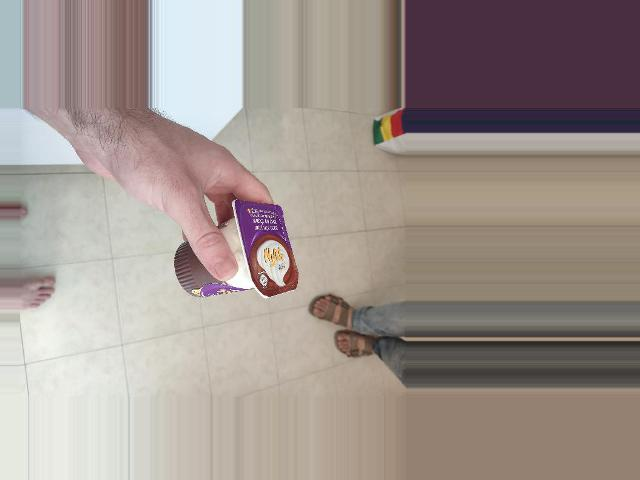milky: (220, 217, 306, 344)
